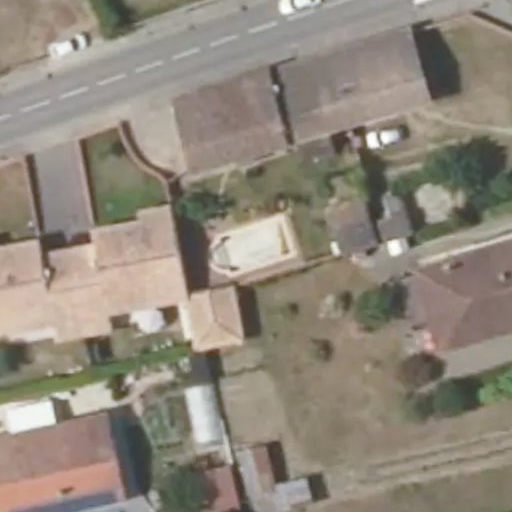pool: (209, 239, 297, 249)
